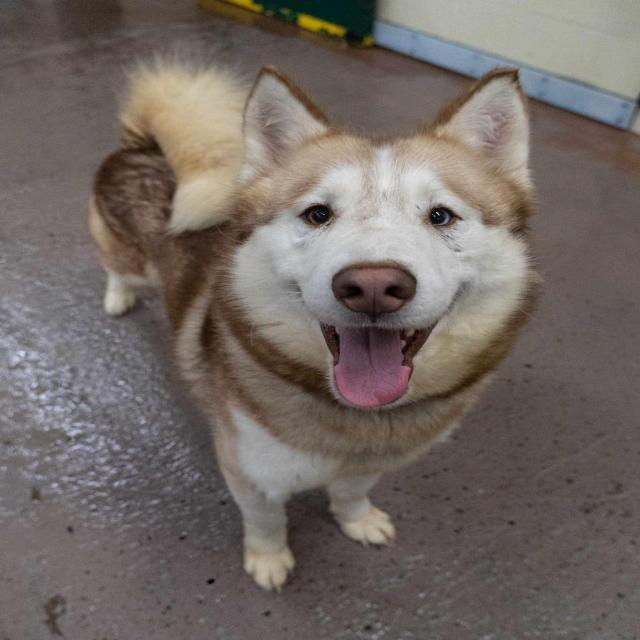siberian_husky_dog: (212, 57, 545, 430)
